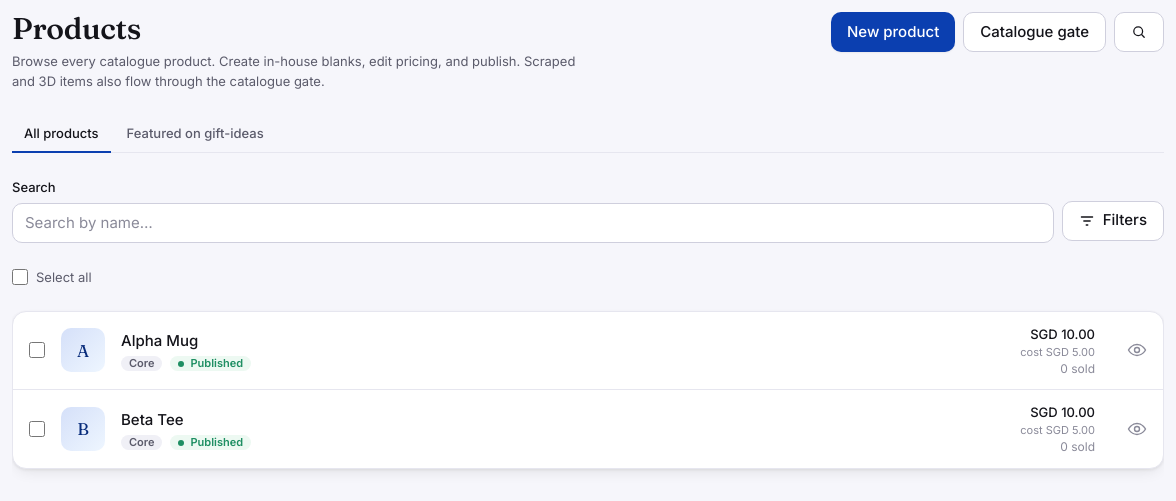
Scenario: select-all picks every row on the page
Expected: the text "Alpha Mug" is shown, [121,331,198,350]
Click the checkbox named "select all products on this page": {"x": 20, "y": 276} [12,268,28,284]
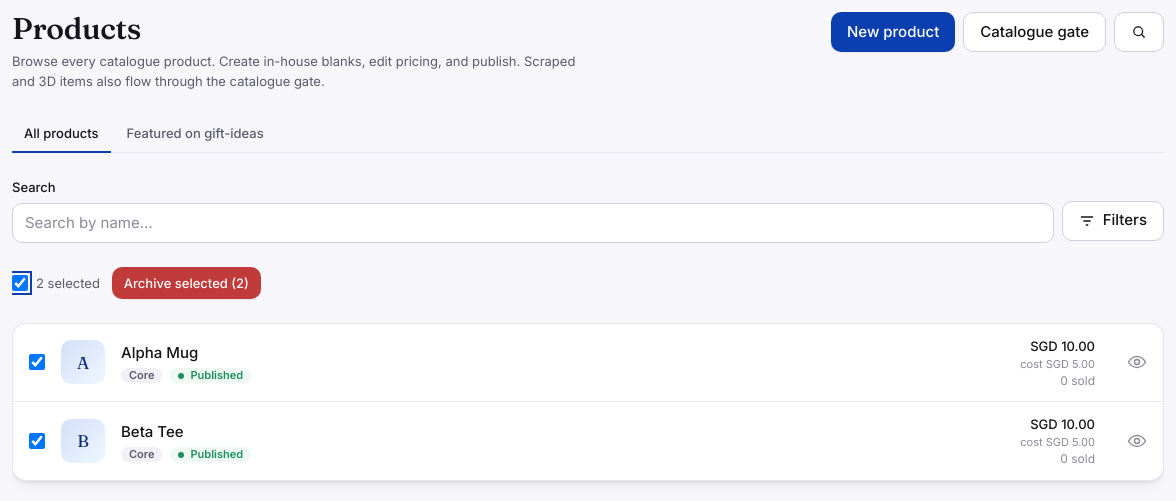
Now the button "Archive selected (2)" is shown, box [112,266,261,298]
